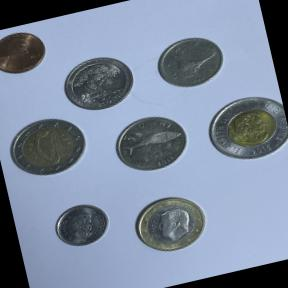1 Euro-B: (124, 184, 214, 262)
2 Euro-B: (0, 107, 93, 185)
Canada-10cent-B: (44, 192, 116, 256)
Canada-2Dollar-B: (199, 85, 288, 173)
Croatia-2Kune-B: (106, 105, 195, 180)
US-1cent-B: (0, 24, 52, 82)
US-25cent-B: (54, 48, 140, 118)
